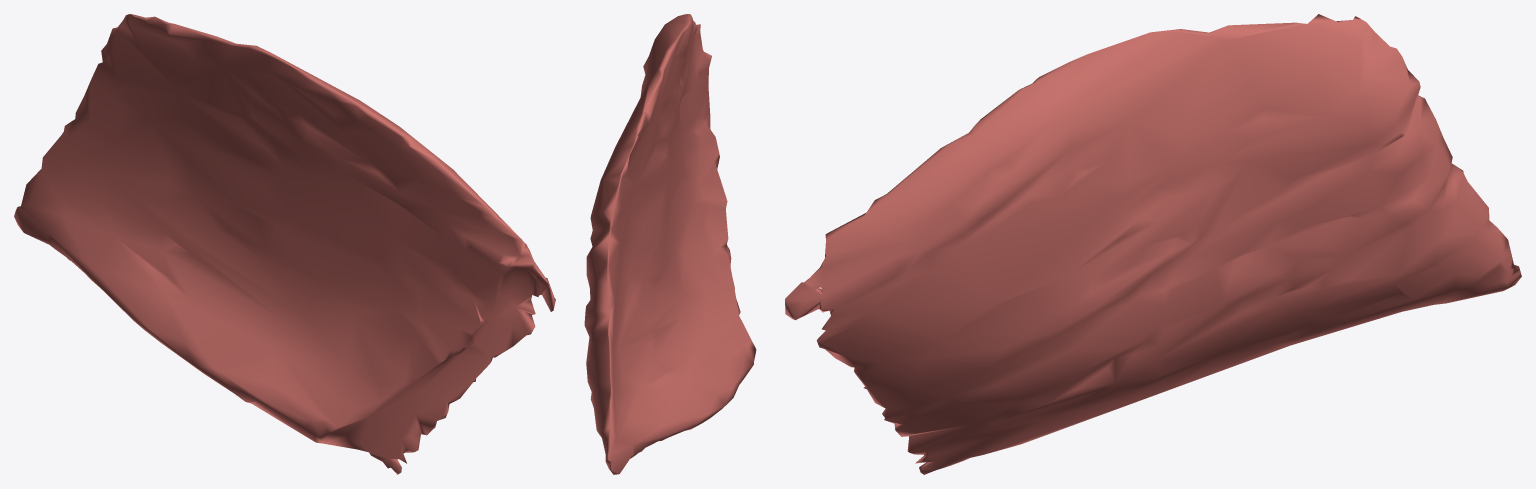
The picture shows the model from 3 angles, left to right: view 1: azimuth 30°, elevation 25°; view 2: azimuth 150°, elevation 25°; view 3: azimuth 270°, elevation 25°; orthographic projection. The views are drawn at different scales.
Visible parts, largest first — view 1: 左侧咬肌浅部; view 2: 左侧咬肌浅部; view 3: 左侧咬肌浅部.
Boxes of the visible parts, x1=… form: 左侧咬肌浅部: x1=14, y1=14, x2=555, y2=474; 左侧咬肌浅部: x1=584, y1=14, x2=756, y2=474; 左侧咬肌浅部: x1=785, y1=14, x2=1521, y2=474.
Bounding box in the file's own units: 0.0392 × 0.0582 × 0.0915.
